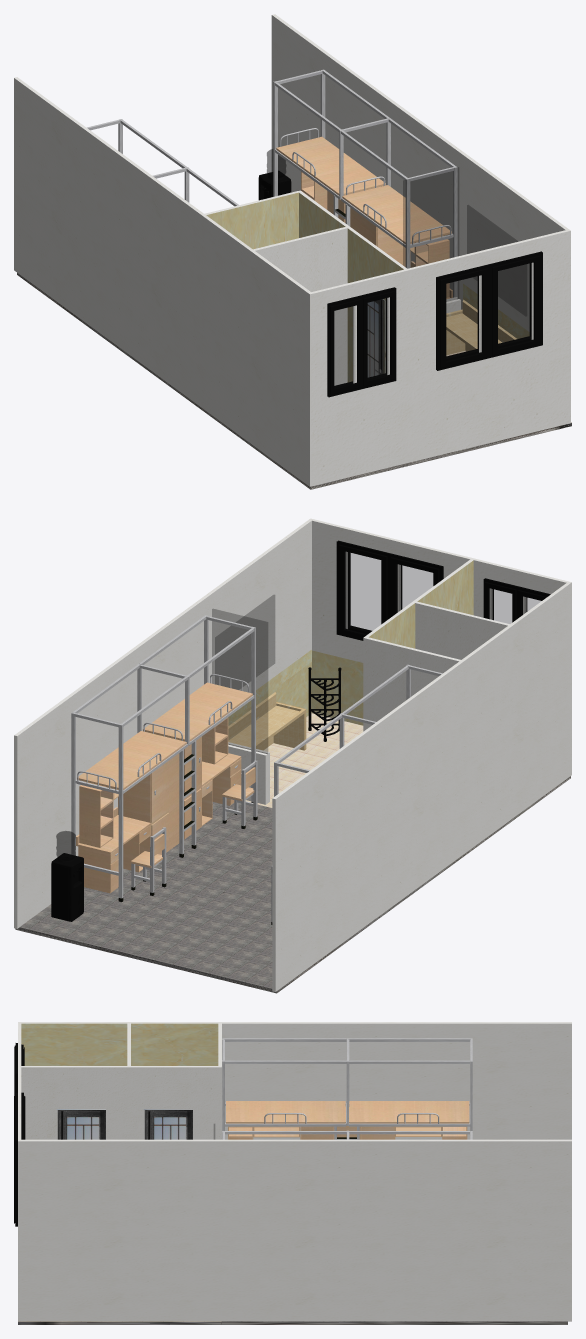
3 views of the same model, one above another, from view 1: azimuth 30°, elevation 25°; view 2: azimuth 150°, elevation 25°; view 3: azimuth 270°, elevation 25° (orthographic). The views are drawn at different scales.
Parts seen in each view (by area): view 1: nurbsToPoly11; view 2: nurbsToPoly11; view 3: nurbsToPoly11.
Boxes of the visible parts, <box> form: nurbsToPoly11: <box>14,14,571,489</box>; nurbsToPoly11: <box>14,518,571,993</box>; nurbsToPoly11: <box>14,1022,571,1324</box>.
Bounding box in the file's own units: 11.22 × 8.01 × 22.1.
17 materials, 9 textured.
